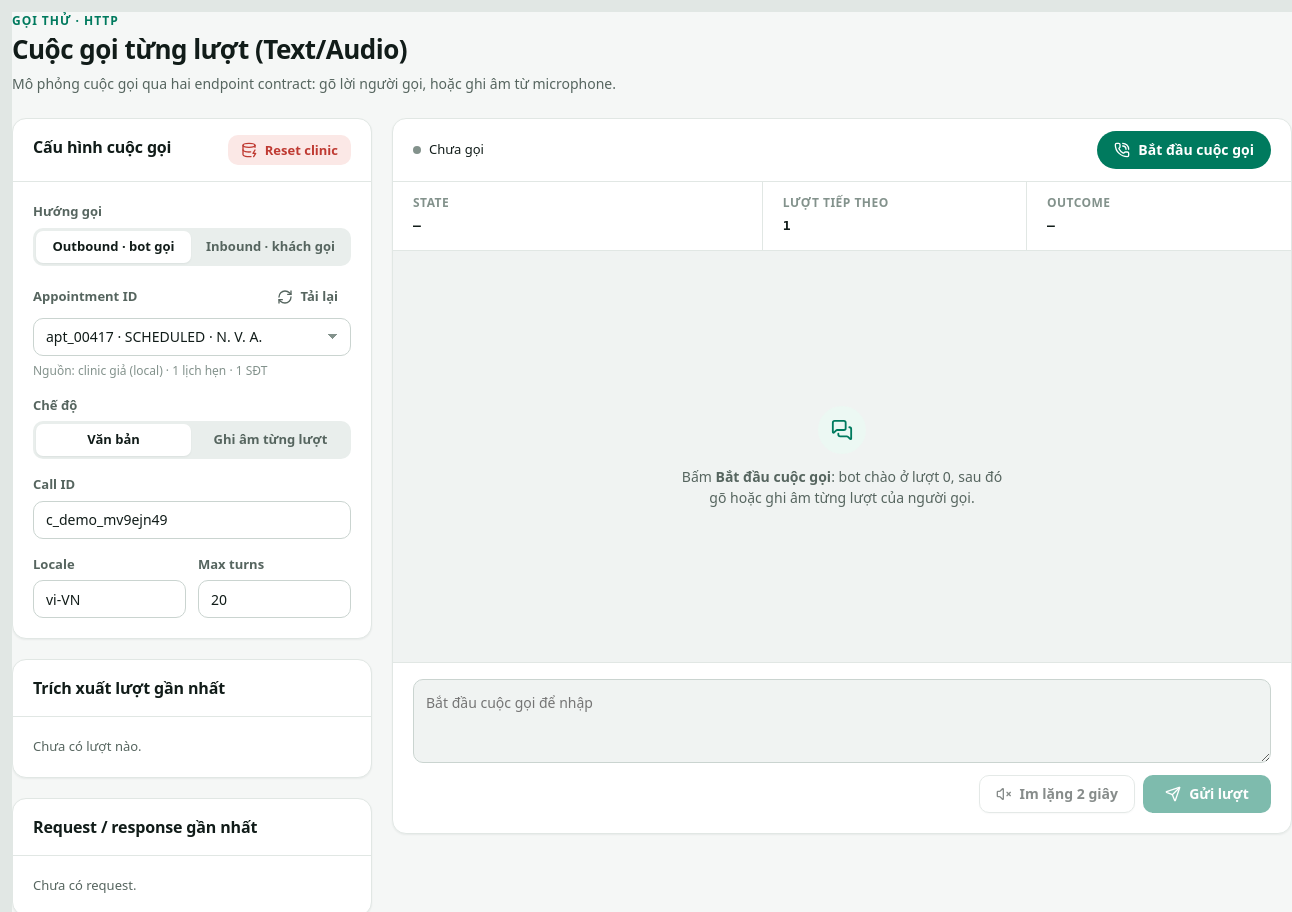
Scenario: CallPage › bot từ chối key: đăng xuất để về trang đăng nhập
Click the button "Bắt đầu cuộc gọi" at point(1184, 150), box [1097,131,1271,169]
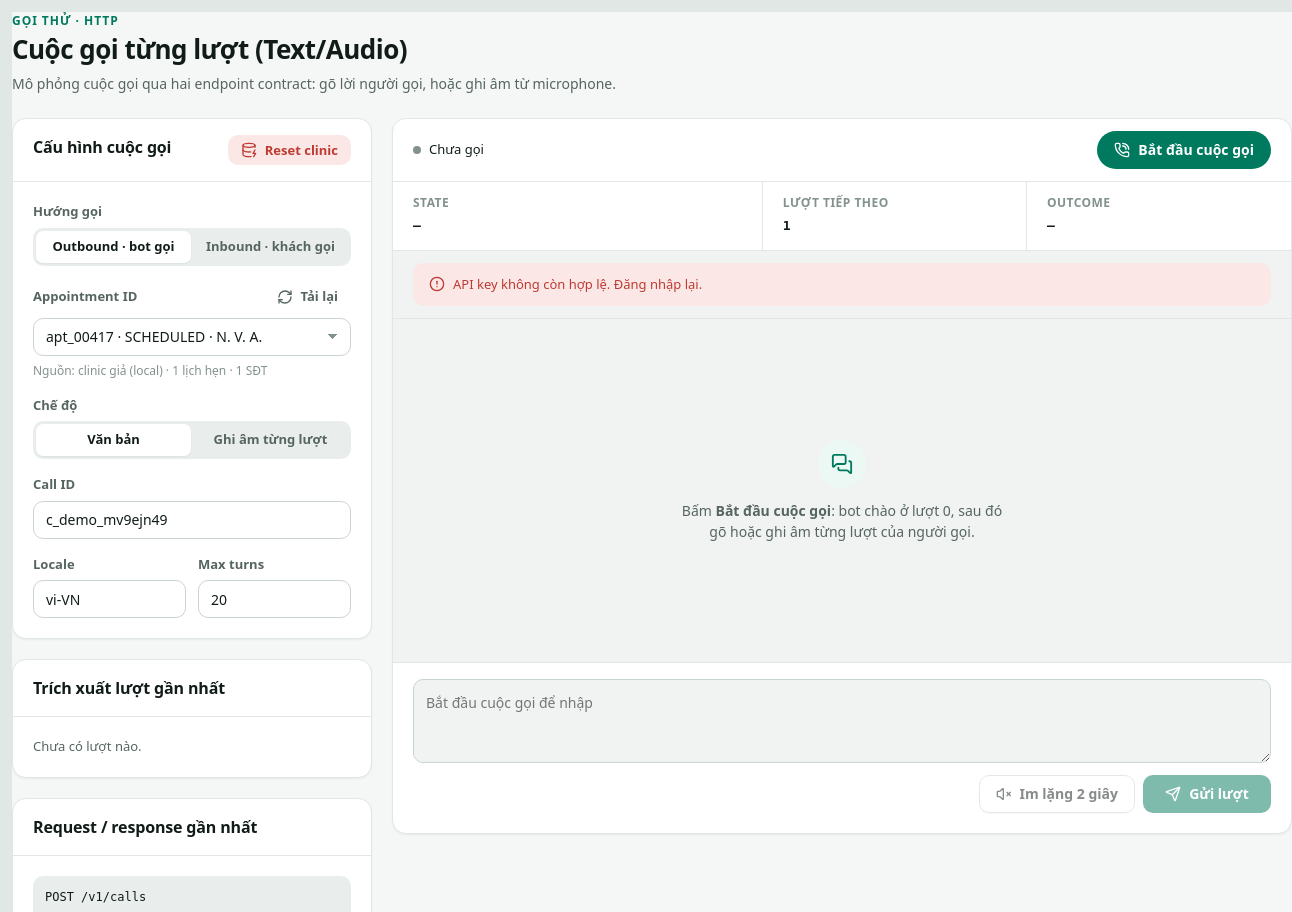
Expected: the text "API key không còn hợp lệ. Đăng nhập lại." is shown, [453,275,702,294]
